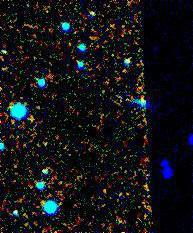star: (17, 104, 47, 134)
